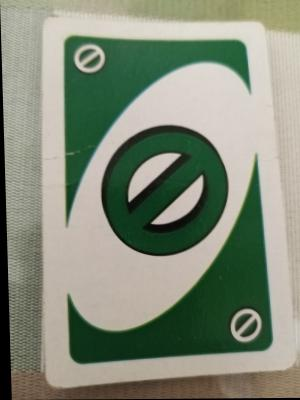green: (67, 37, 261, 351)
skip: (223, 301, 265, 348), (67, 41, 115, 76)
